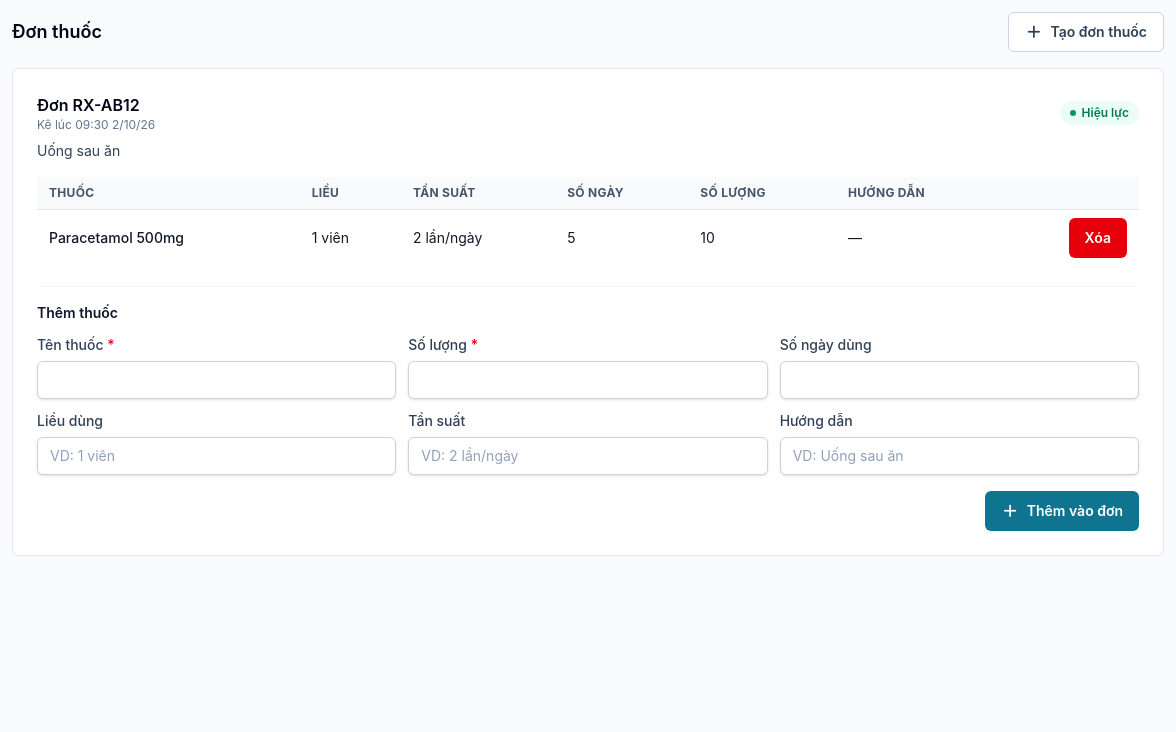
Test case: EncounterPrescriptionsTab › thêm thuốc: gửi dữ liệu đã chuẩn hóa, thêm dòng mới và xóa biểu mẫu
Type "  Amoxicillin  " into the field with id "rx-20-name". click: (217, 380)
box: [37,361,396,399]
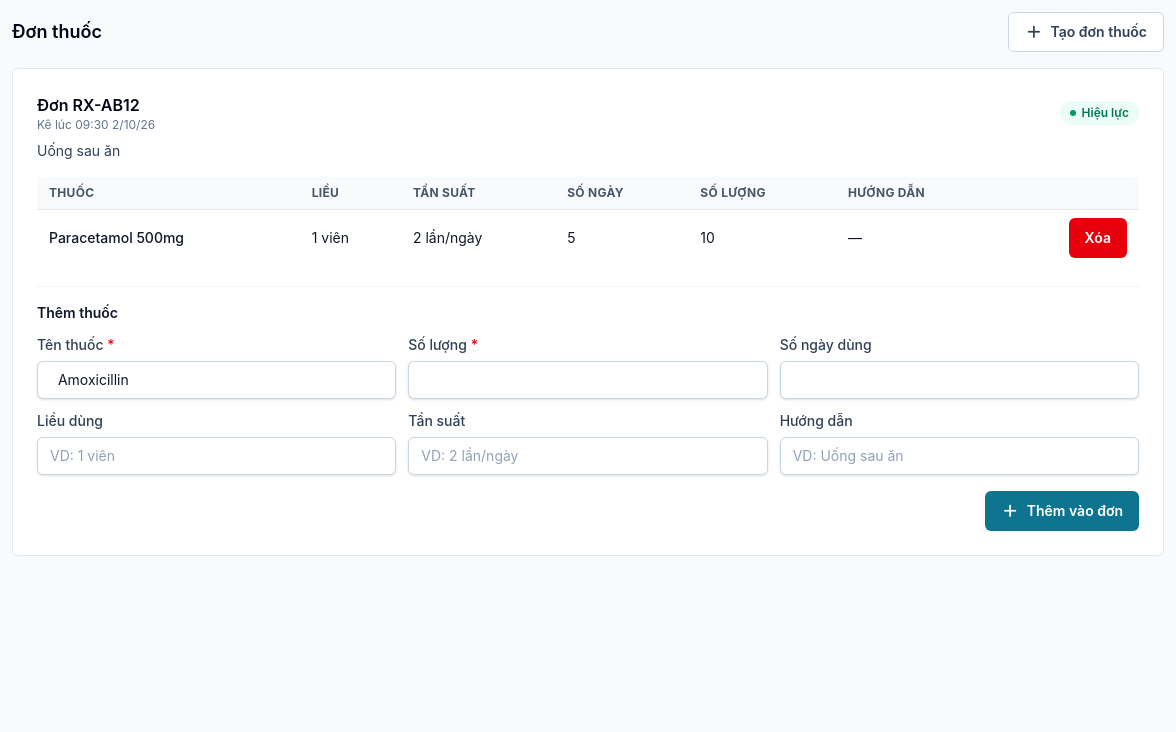
Type "21" into the number field with id "rx-20-quantity". click: (588, 380)
box: [408,361,768,399]
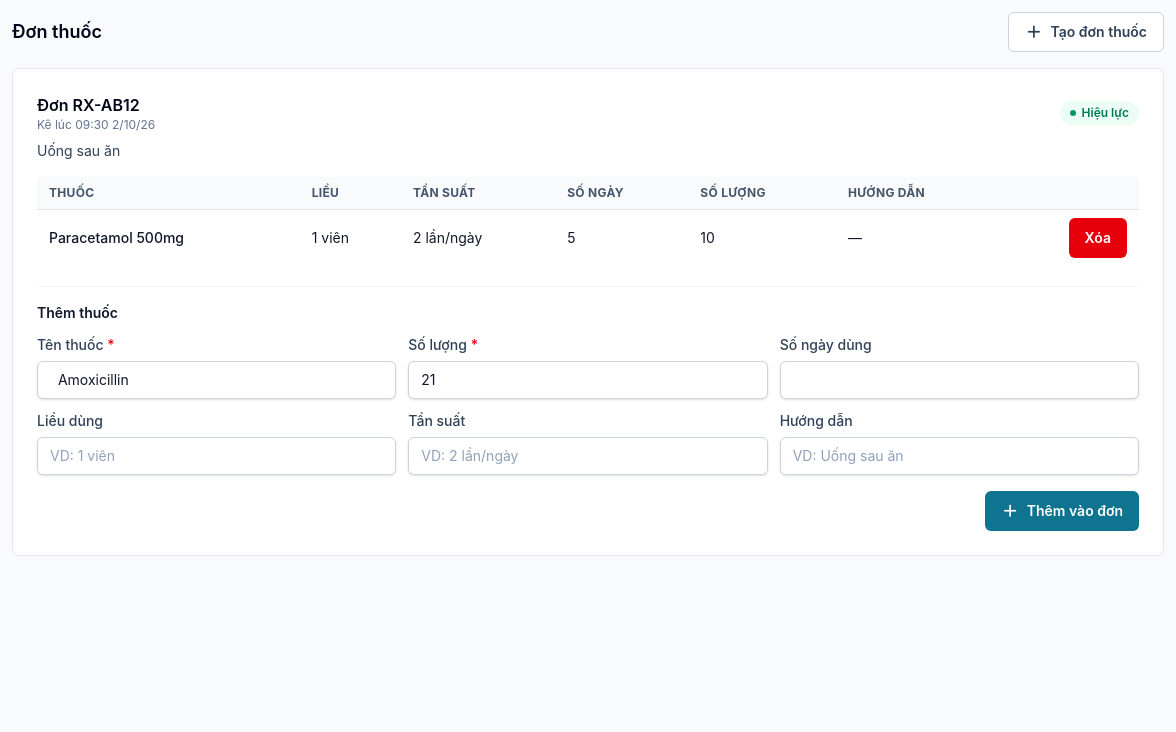
Type "7" into the number field with id "rx-20-days". click: (959, 380)
box: [780,361,1139,399]
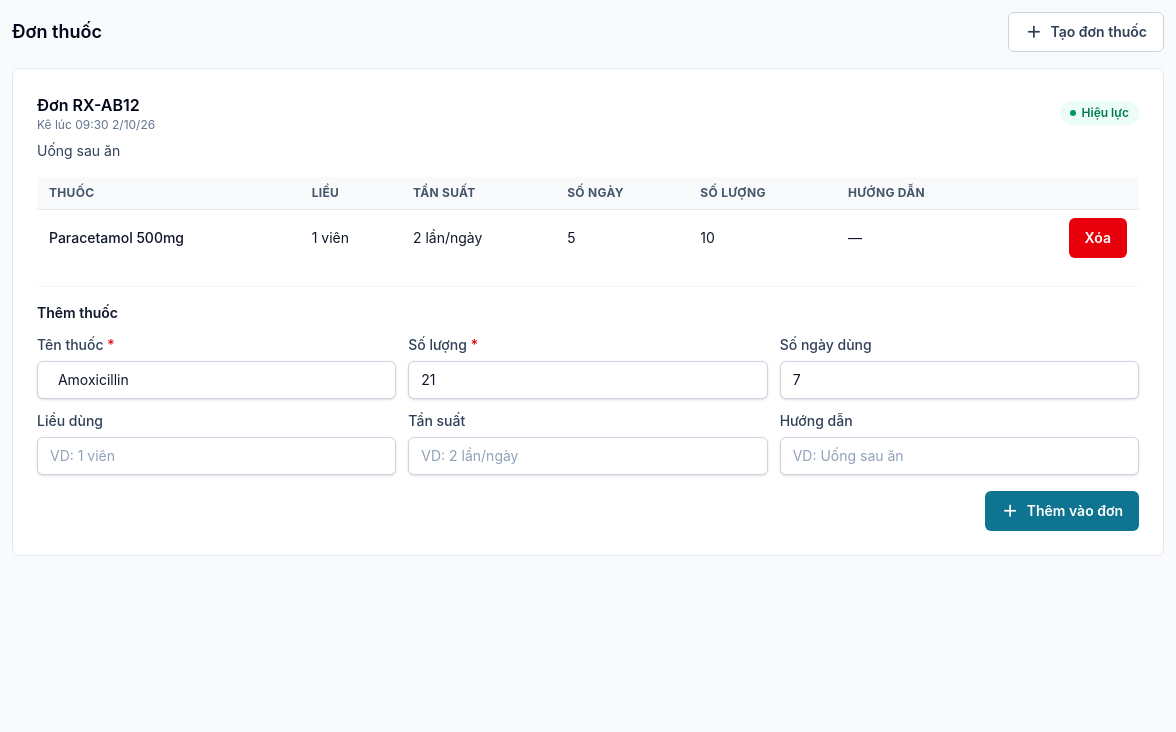
Type "1 viên" into the field with id "rx-20-dosage". click: (217, 456)
box: [37,437,396,475]
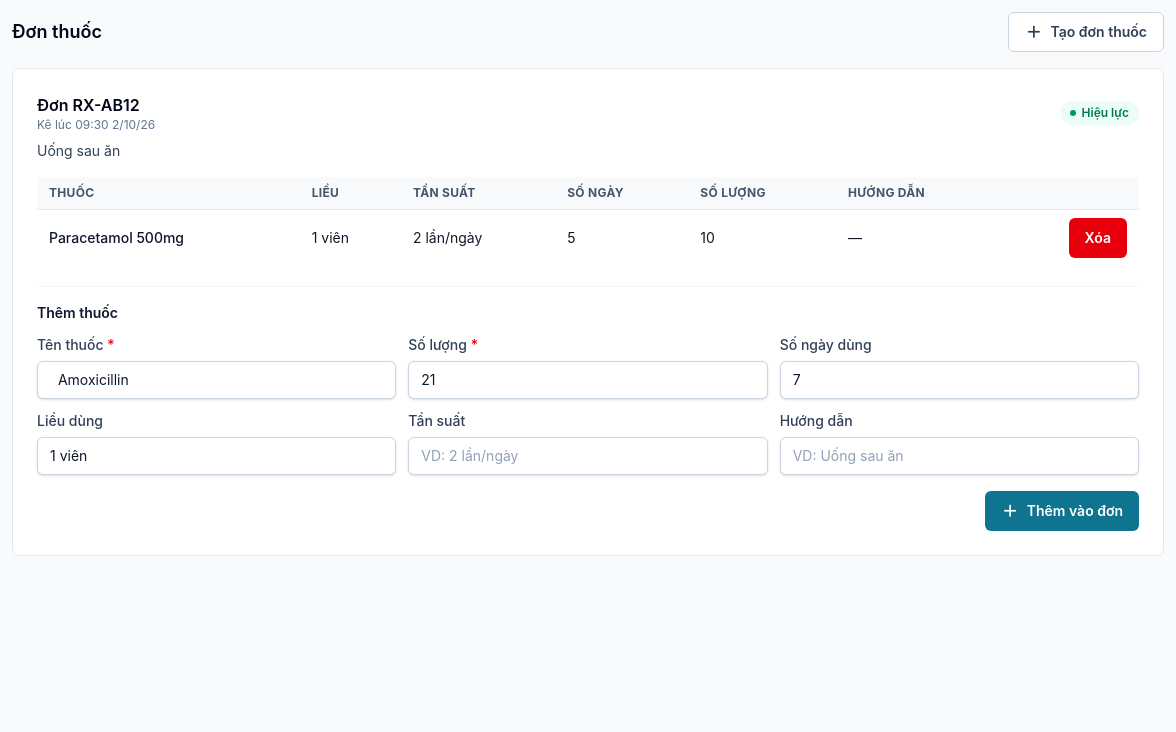
Submit the form with test id "item-form-20", box [37,286,1139,531]
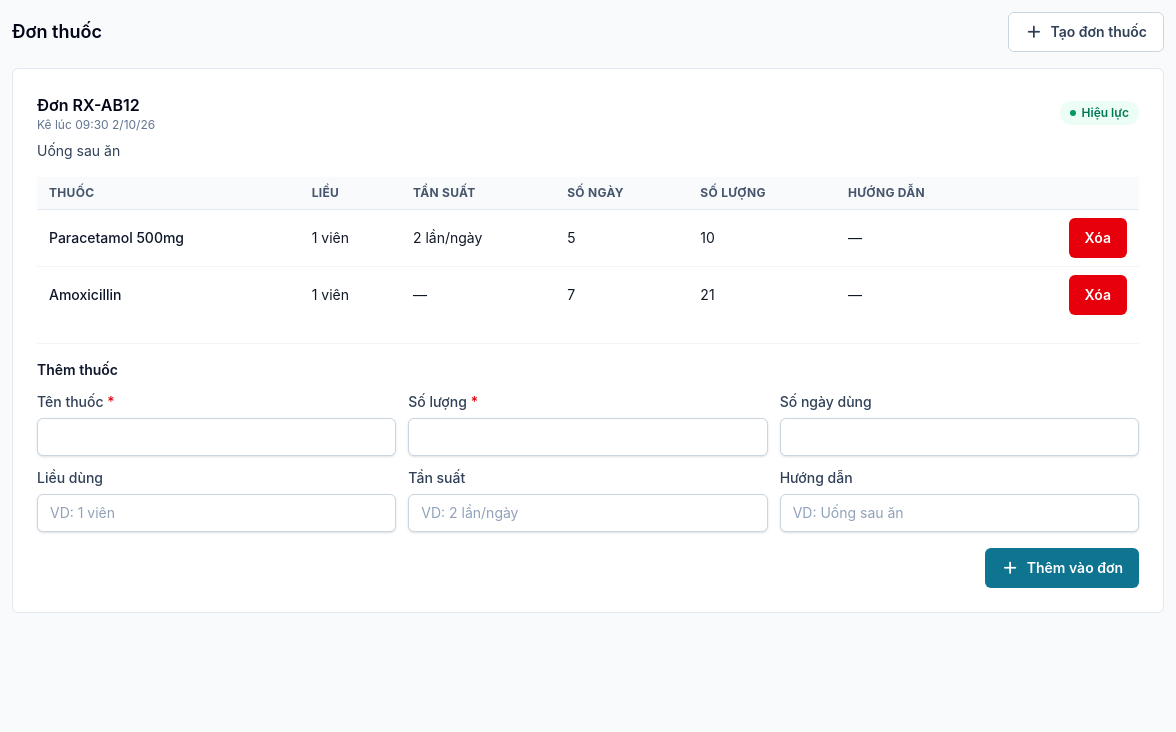
Result: the row with test id "item-32" is shown at [37,266,1139,323]
Result: the field with id "rx-20-name" is empty at [37,418,396,456]
